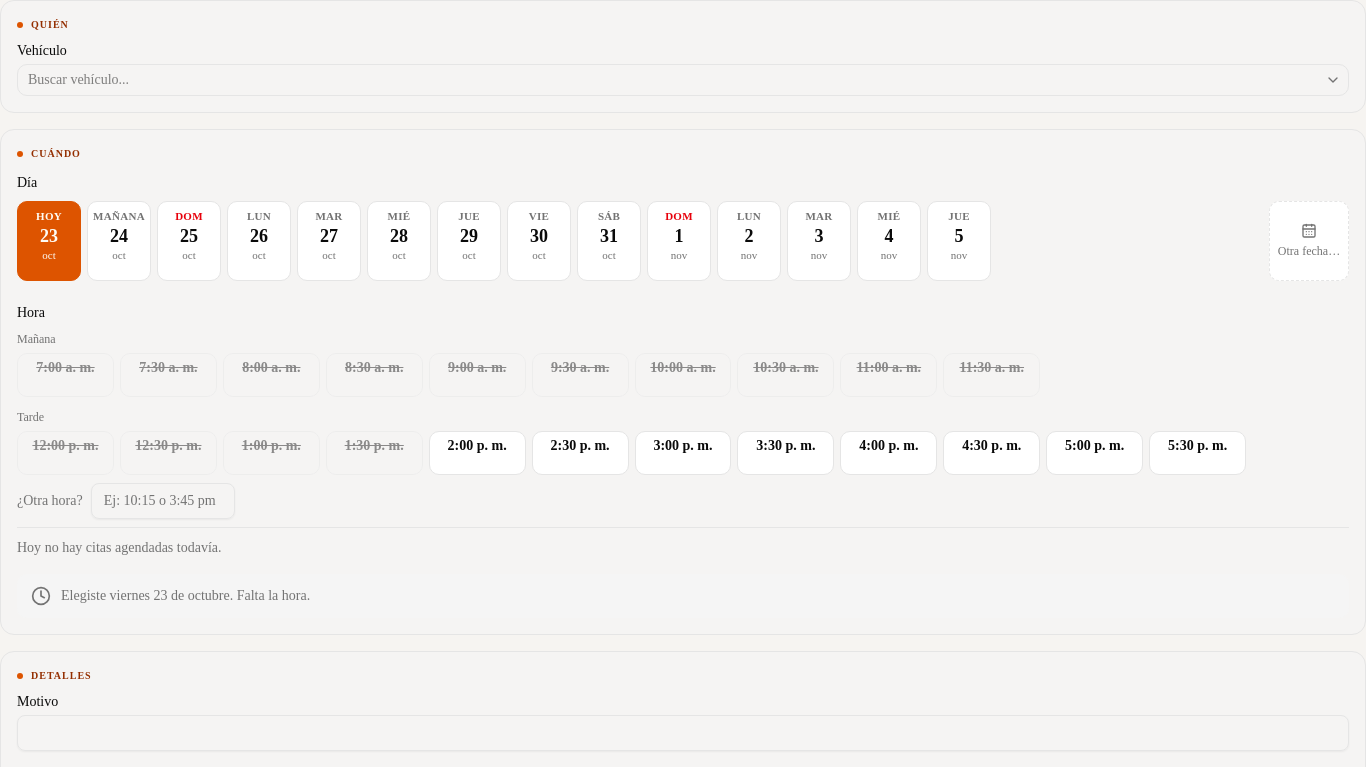
NuevaCitaForm › renders one option per vehículo, labelled with placa and cliente
Click the dropdown labelled "Vehículo". click: (683, 80)
box: [17, 64, 1349, 96]
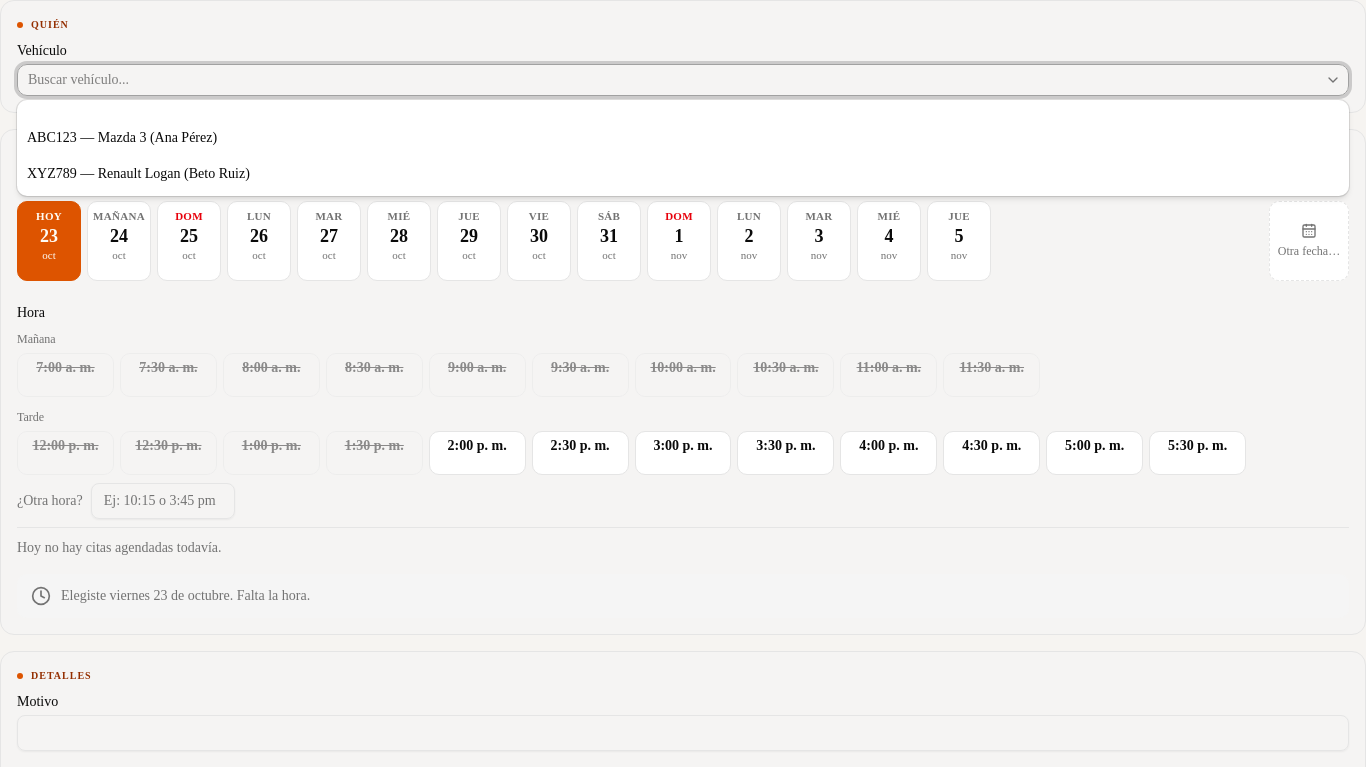
expect the option "ABC123 — Mazda 3 (Ana Pérez)" is shown: met, box [27, 130, 217, 145]
expect the option "XYZ789 — Renault Logan (Beto Ruiz)" is shown: met, box [27, 166, 250, 181]
